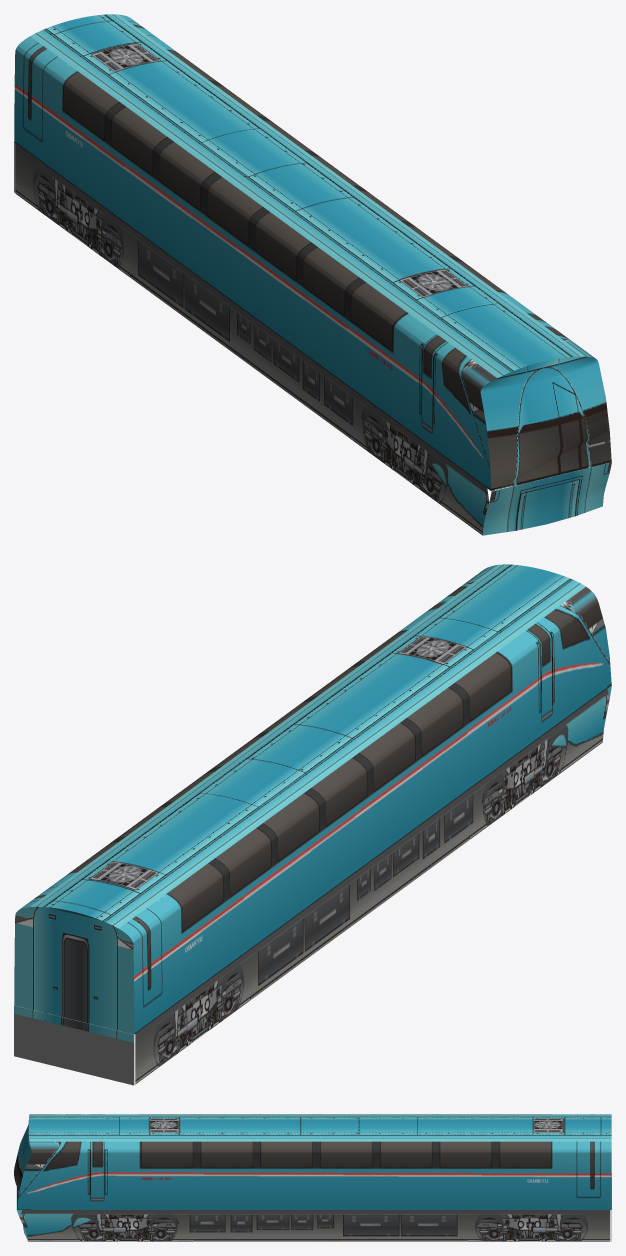
File: car1.glb
The picture shows the model from 3 angles, top to bottom: view 1: azimuth 30°, elevation 25°; view 2: azimuth 150°, elevation 25°; view 3: azimuth 270°, elevation 25°; orthographic projection. The views are drawn at different scales.
Visible parts, largest first — view 1: car1.glb; view 2: car1.glb; view 3: car1.glb.
Part boxes in pixels (x1,y1,x2,y2): car1.glb: (14, 14, 611, 535); car1.glb: (14, 564, 611, 1085); car1.glb: (14, 1114, 611, 1241).
Bounding box in the file's own units: 2.85 × 3.6 × 19.73.
Materials: 9 (8 with a texture image).
